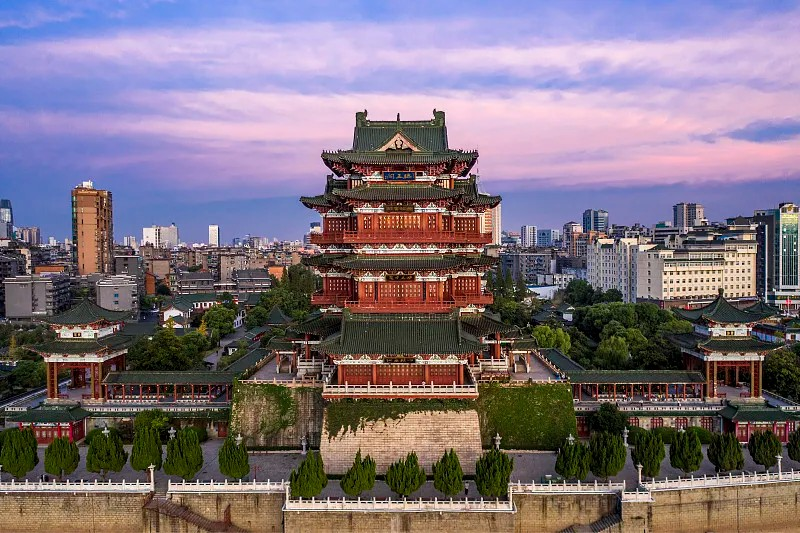Teng: (271, 109, 540, 384)
